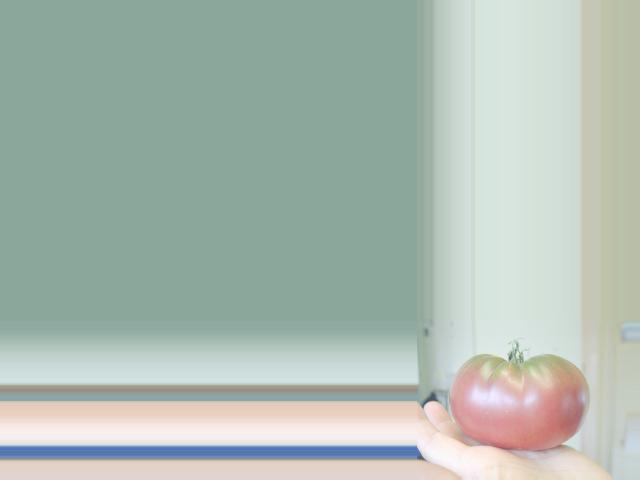tomato: (449, 353, 590, 450)
